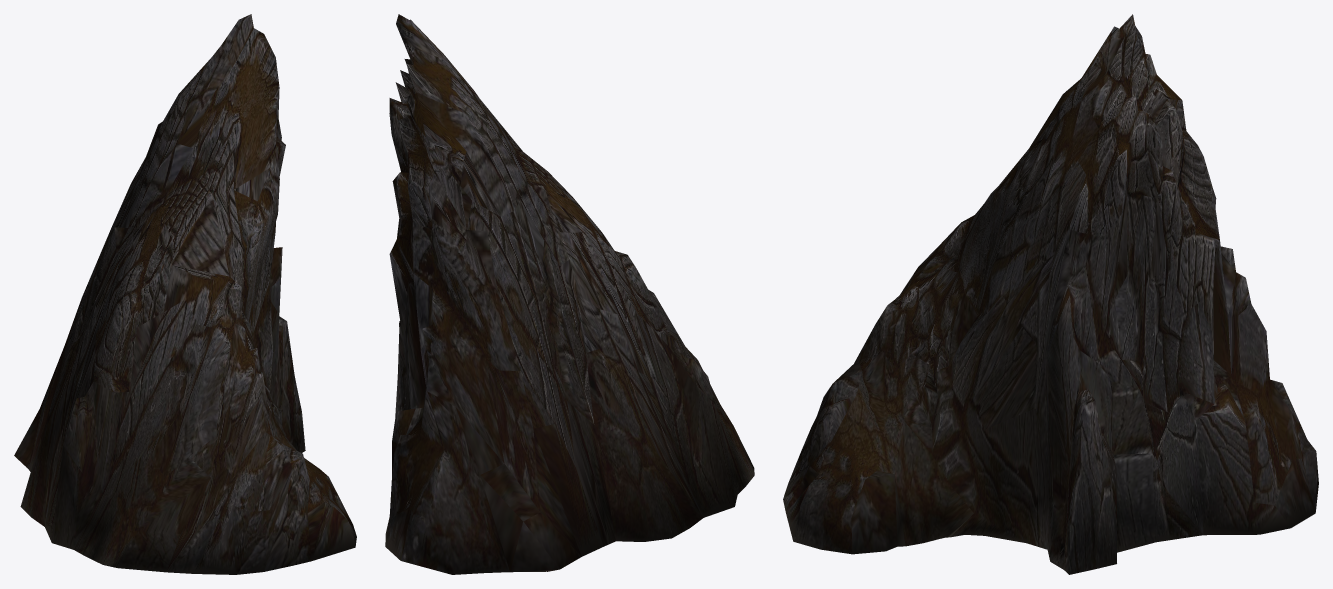
Rendered from Rock_03_Leaning_Crag_LOD2.fbx.
3 views of the same model, side by side, from view 1: azimuth 30°, elevation 25°; view 2: azimuth 150°, elevation 25°; view 3: azimuth 270°, elevation 25° (orthographic). The views are drawn at different scales.
Visible parts, largest first — view 1: Rock_03_Leaning_Crag_LOD2; view 2: Rock_03_Leaning_Crag_LOD2; view 3: Rock_03_Leaning_Crag_LOD2.
Boxes of the visible parts, bbox=[...] form: Rock_03_Leaning_Crag_LOD2: bbox=[14, 14, 356, 574]; Rock_03_Leaning_Crag_LOD2: bbox=[385, 14, 754, 574]; Rock_03_Leaning_Crag_LOD2: bbox=[783, 14, 1318, 574].
Size of the model in its own units: 51.86 by 75.12 by 67.21.
